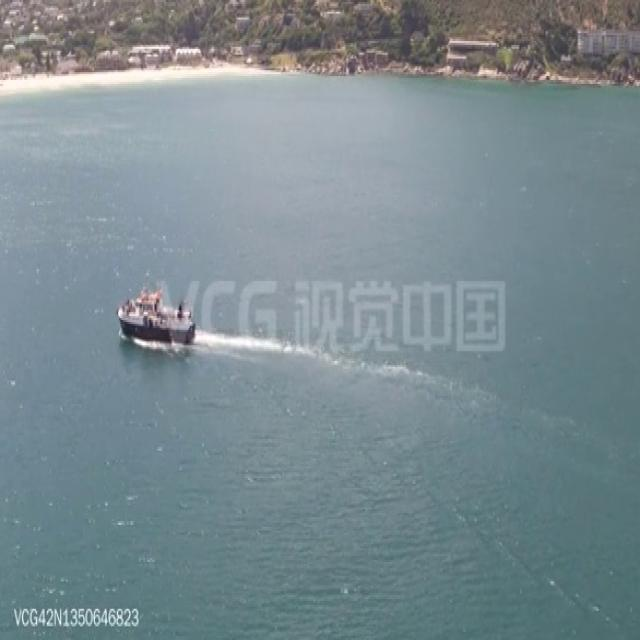houseboat: (114, 275, 198, 343)
